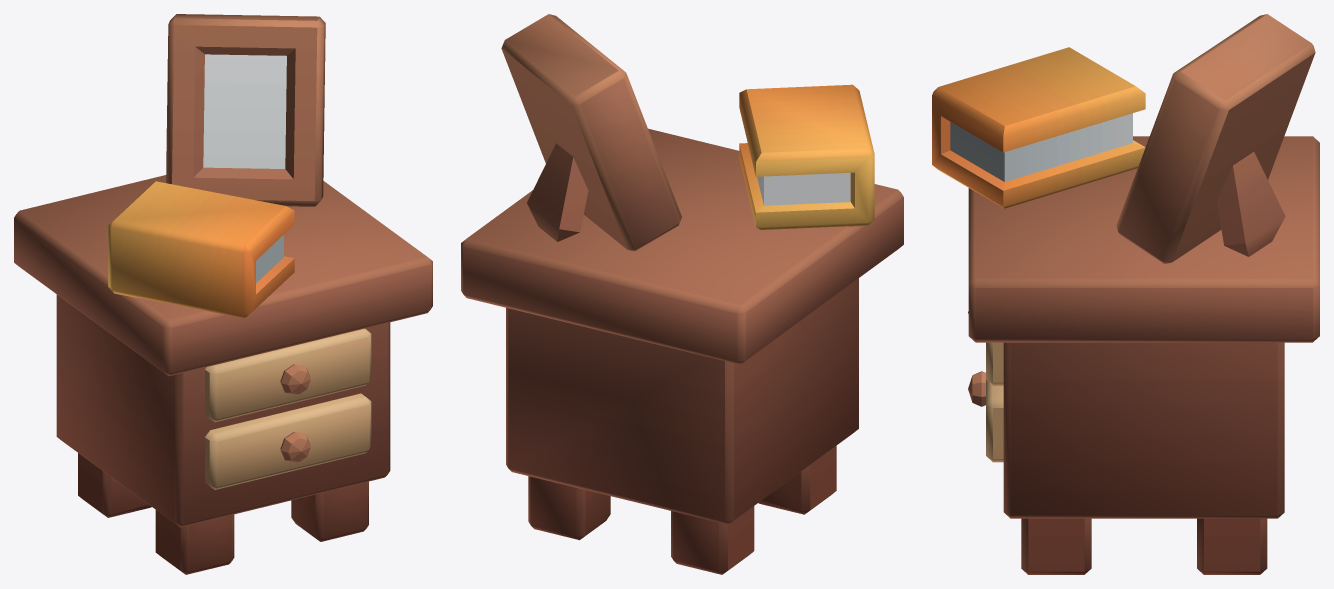
Rendered from cabinet_small_decorated.glb.
3 views of the same model, side by side, from view 1: azimuth 30°, elevation 25°; view 2: azimuth 150°, elevation 25°; view 3: azimuth 270°, elevation 25° (orthographic). The views are drawn at different scales.
Parts seen in each view (by area): view 1: cabinet_small_decorated; view 2: cabinet_small_decorated; view 3: cabinet_small_decorated.
Part boxes in pixels (x1=…): cabinet_small_decorated: x1=14, y1=14, x2=432, y2=574; cabinet_small_decorated: x1=461, y1=14, x2=903, y2=574; cabinet_small_decorated: x1=932, y1=14, x2=1319, y2=574.
Size of the model in its own units: 1.05 by 1.62 by 1.1.
Materials: 1 (1 with a texture image).
